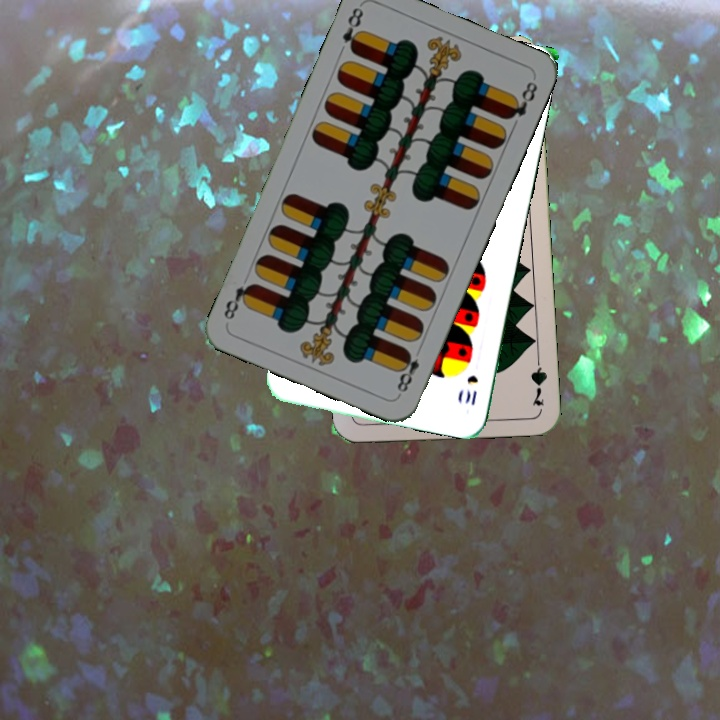E8: (392, 346, 423, 398), (338, 3, 366, 56)
G7: (526, 350, 550, 409)
S10: (461, 371, 481, 408)
